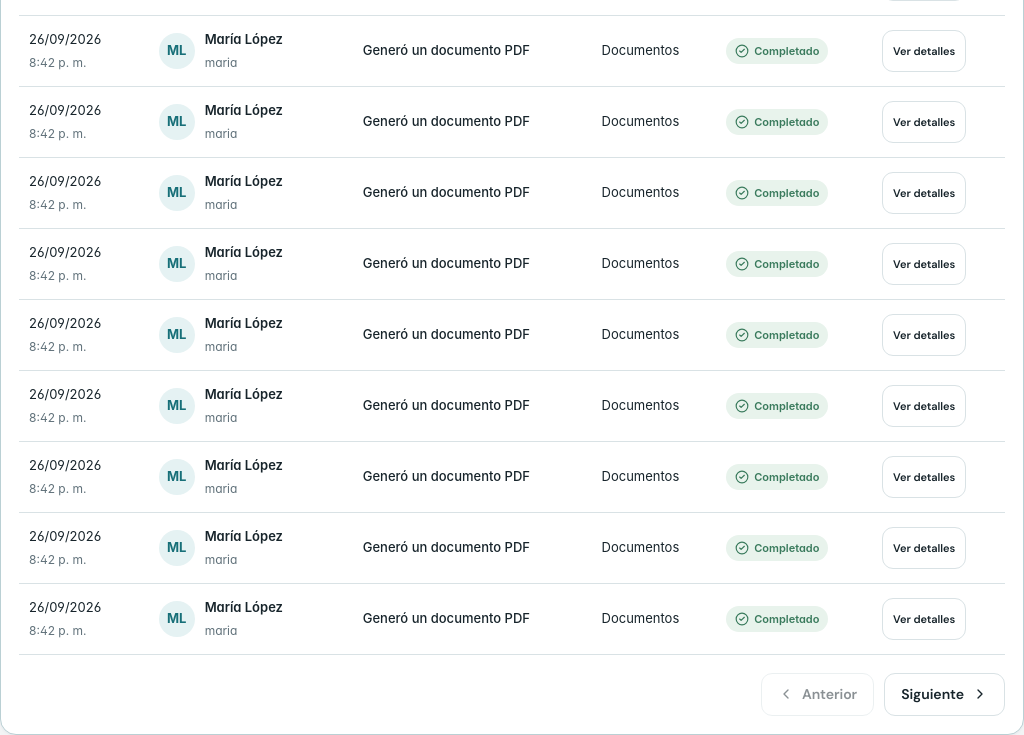
Test: navega por cursor, conserva filtros y no muestra totales
(page scrolled)
What coordinates should you click on to do the following:
click the button "Siguiente"
I would click on:
 (945, 694)
Its box is [884,673,1005,716].
(page scrolled)
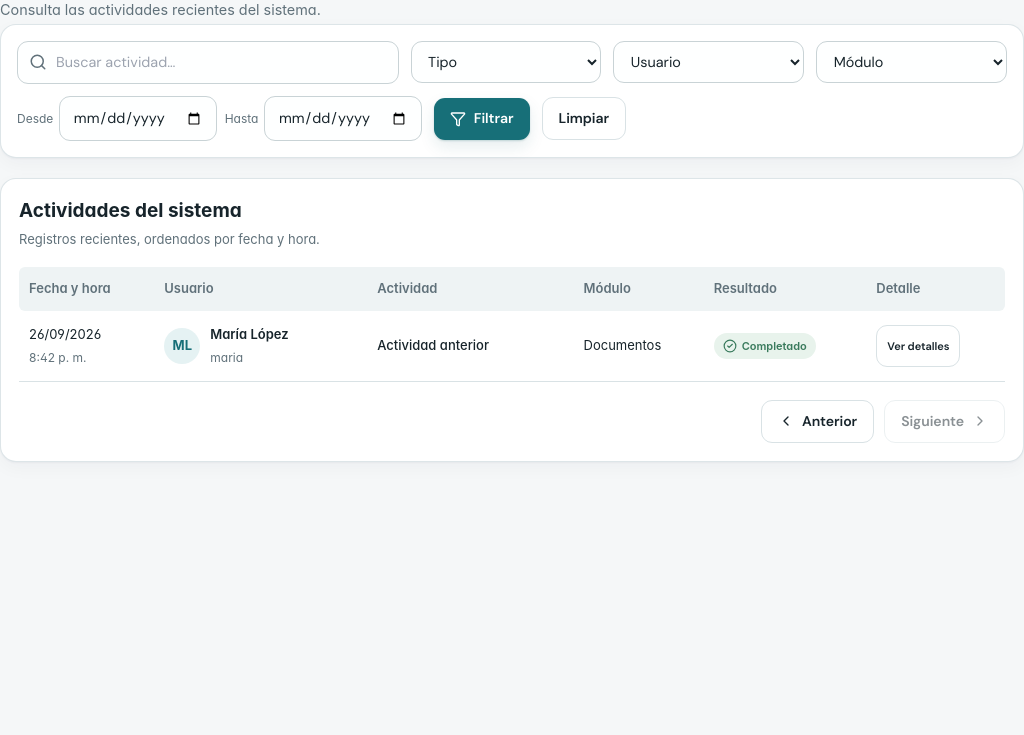
Check: the text "Actividad anterior" is shown, box [367,311,574,382]
Check: the button "Siguiente" is disabled, box [884,400,1005,443]
What coordinates should you click on to do the following:
click the button "Anterior"
I would click on:
 (818, 421)
Its box is [761,400,874,443].
(page scrolled)
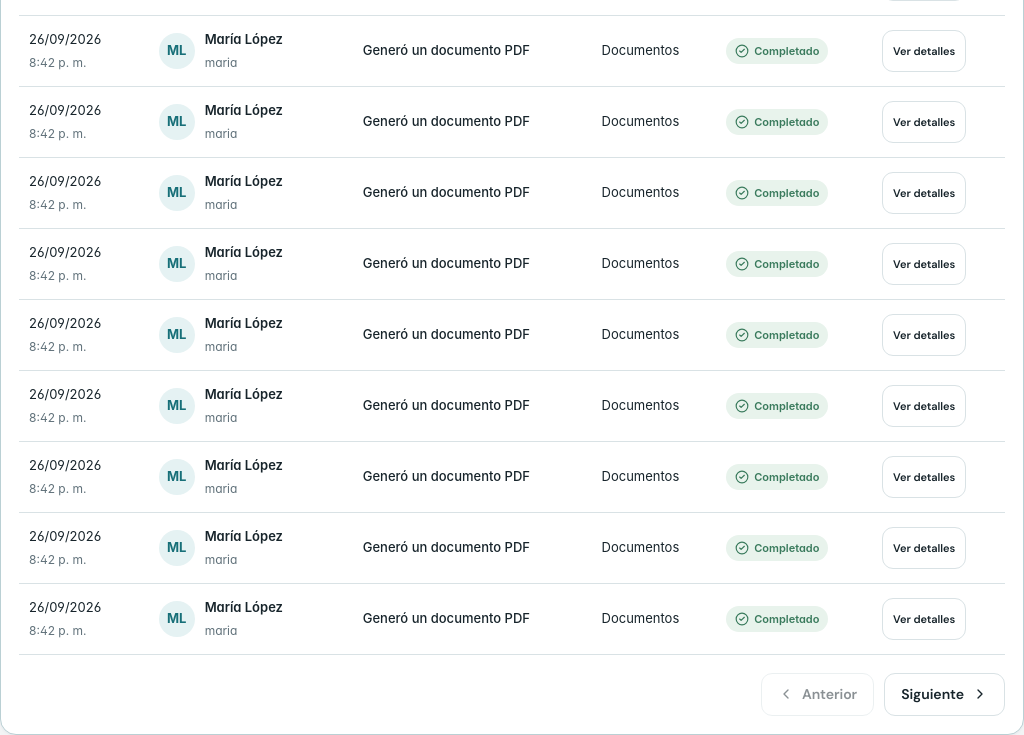
Check: the button "Anterior" is disabled, box [761,673,874,716]
